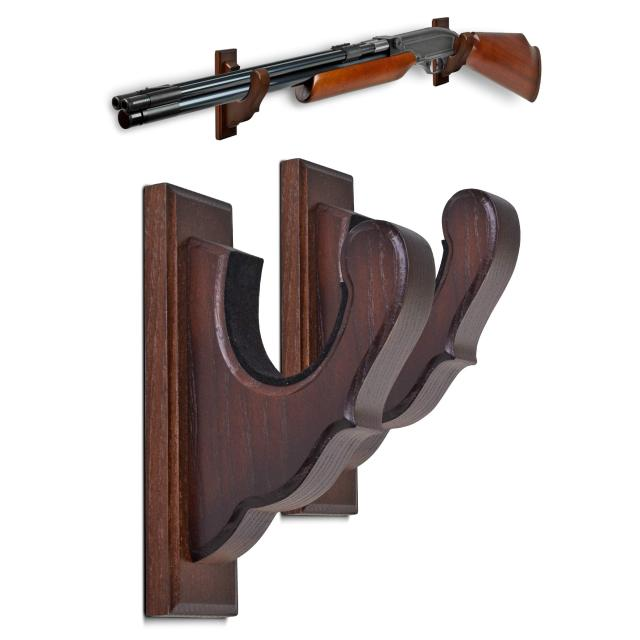ShotGun: (111, 19, 541, 129)
